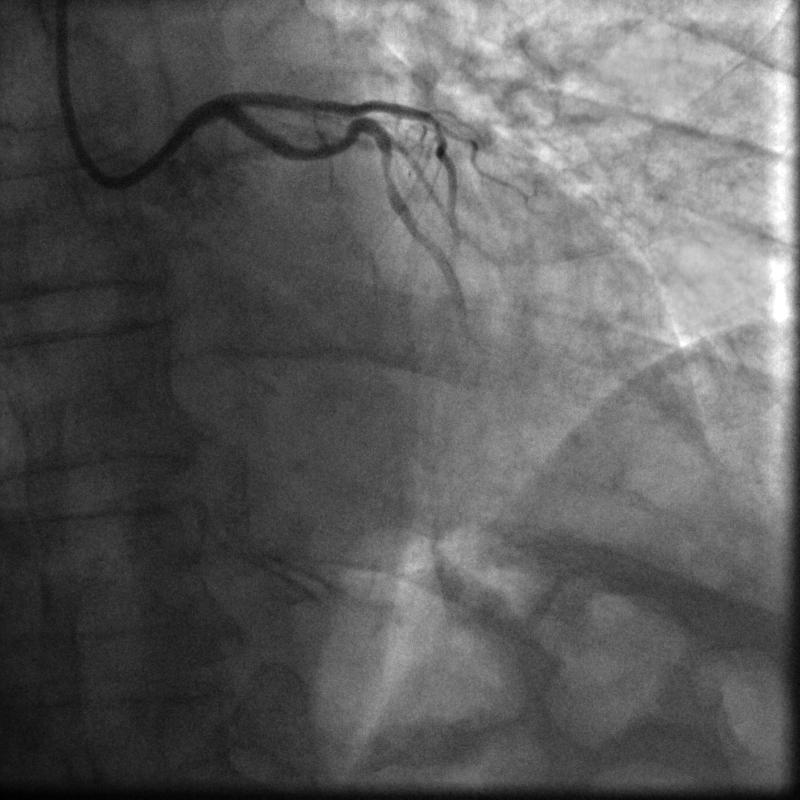Stenosis: (380, 164, 393, 182)
